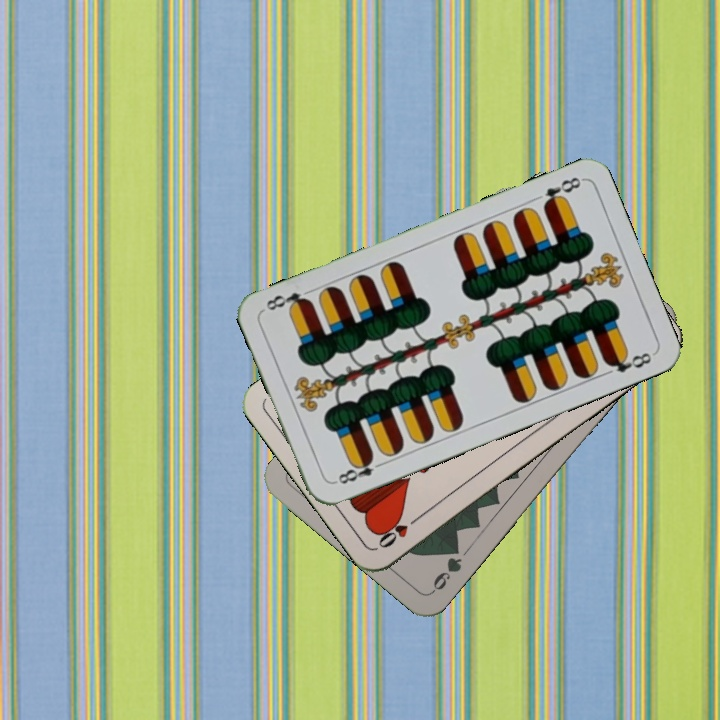E8: (329, 452, 387, 487), (539, 173, 585, 211)
G9: (428, 540, 465, 596)
HO: (374, 510, 425, 551)
